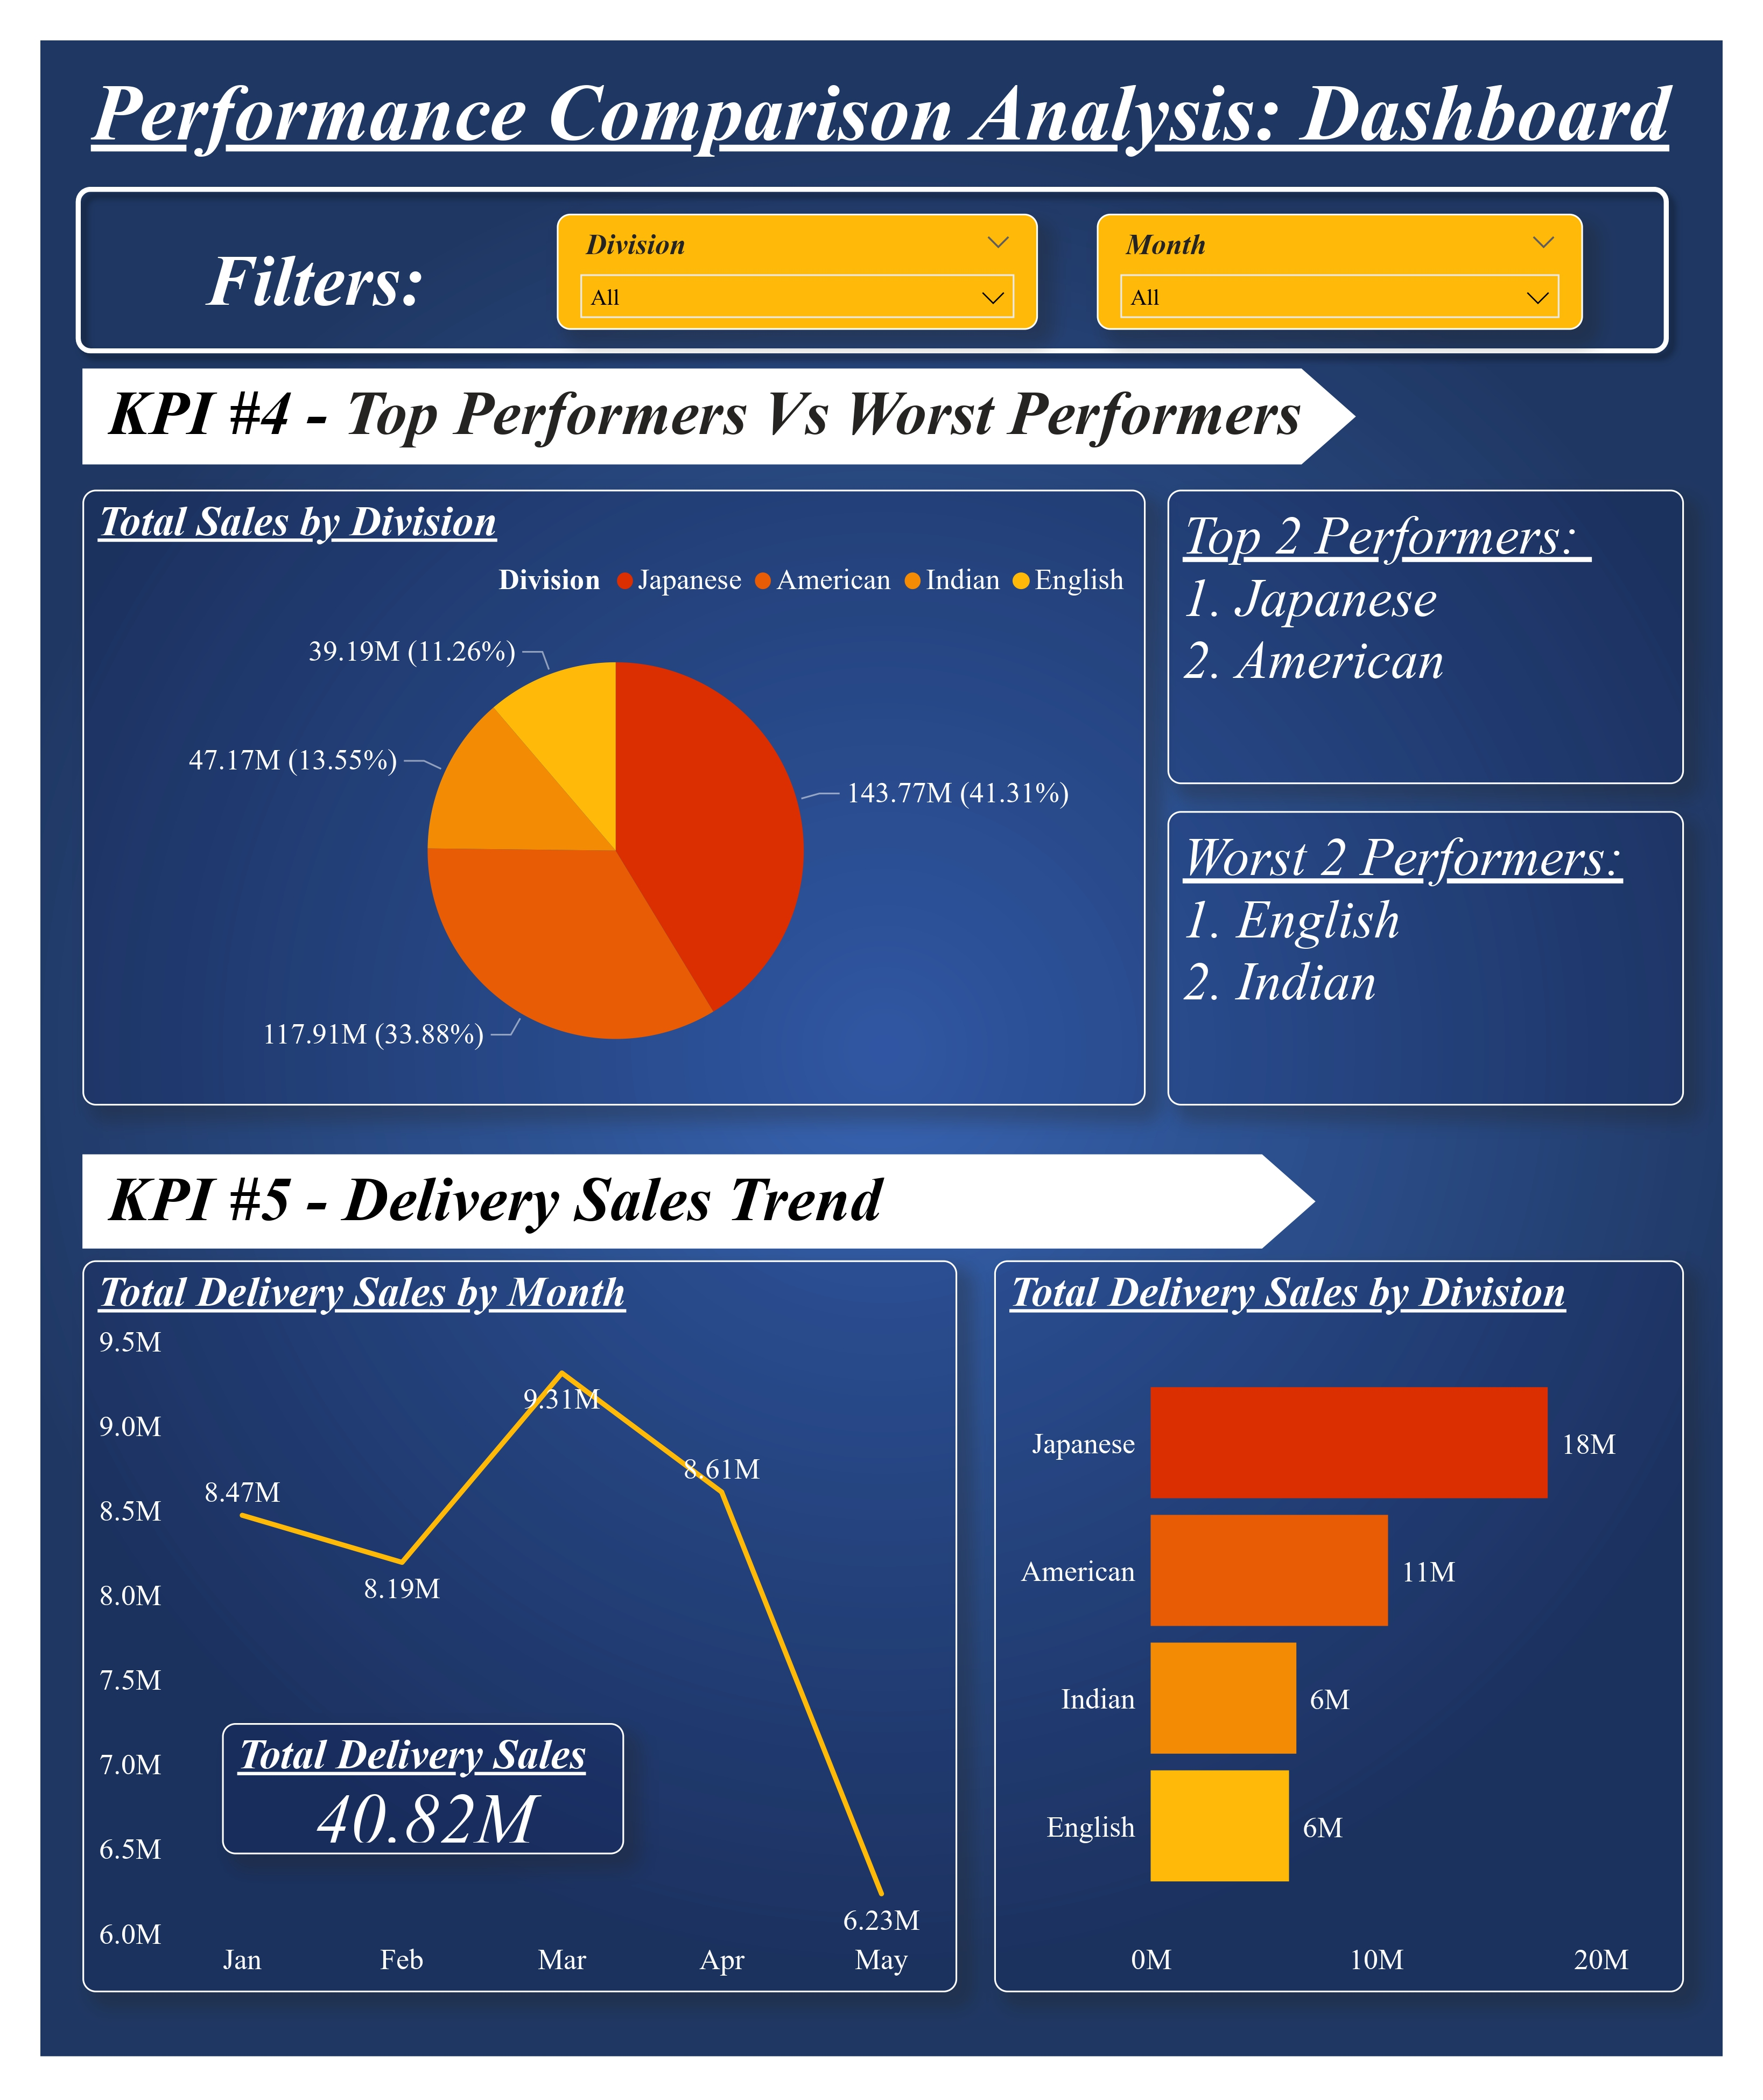

Layout of this report page (visuals, bound fields, positions):
{"tool":"powerbi","page":{"name":"Performance","canvas":[1000,1200],"ordinal":3},"visuals":[{"type":"textbox","box":[25,10,975,103],"z":0},{"type":"shape","box":[11.7,78.3,965,116.7],"z":1000},{"type":"slicer","fields":{"Values":["Divisions.Division"]},"box":[306.7,103.3,286.7,68.3],"z":2000},{"type":"slicer","fields":{"Values":["Date_Table.Month_Name"]},"box":[628.3,103.3,288.3,68.3],"z":3000},{"type":"textbox","box":[93.3,113.3,170,73.3],"z":4000},{"type":"pieChart","title":"Total Sales by Division","fields":{"Category":["Divisions.Division"],"Y":["Calculated_Measures.Total_Sales"]},"box":[25,266.7,631.7,366.7],"z":5000},{"type":"lineChart","title":"Total Delivery Sales by Month","fields":{"Y":["Calculated_Measures.Total_Delivery_Sales"],"Category":["Date_Table.Month_Name"]},"box":[25,725,520,435],"z":6000},{"type":"clusteredBarChart","title":"Total Delivery Sales by Division","fields":{"Y":["Calculated_Measures.Total_Delivery_Sales"],"Category":["Divisions.Division"]},"box":[566.7,725,410,435],"z":7000},{"type":"textbox","box":[670,266.7,306.7,175],"z":8000},{"type":"textbox","box":[670,458.3,306.7,175],"z":9000},{"type":"shape","box":[25,195,756.7,56.7],"z":10000},{"type":"shape","box":[25,661.7,733.3,56.7],"z":11000},{"type":"card","title":"Total Delivery Sales","fields":{"Values":["Calculated_Measures.Total_Delivery_Sales"]},"box":[108.3,1000,238.3,78.3],"z":12000},{"type":"textbox","box":[35,661.7,676.7,71.7],"z":13000},{"type":"textbox","box":[35,195,735,71.7],"z":14000}]}

Visuals, with their boxes in screenshot pixels (x1, y1, x2, y2):
textbox: x1=82, y1=57, x2=1723, y2=230
shape: x1=60, y1=172, x2=1683, y2=368
slicer - Divisions.Division: x1=556, y1=214, x2=1038, y2=329
slicer - Date_Table.Month_Name: x1=1097, y1=214, x2=1582, y2=329
textbox: x1=198, y1=231, x2=483, y2=354
"Total Sales by Division" pieChart: x1=82, y1=489, x2=1145, y2=1106
"Total Delivery Sales by Month" lineChart: x1=82, y1=1261, x2=957, y2=1992
"Total Delivery Sales by Division" clusteredBarChart: x1=994, y1=1261, x2=1683, y2=1992
textbox: x1=1168, y1=489, x2=1683, y2=783
textbox: x1=1168, y1=811, x2=1683, y2=1106
shape: x1=82, y1=368, x2=1355, y2=464
shape: x1=82, y1=1154, x2=1316, y2=1249
"Total Delivery Sales" card: x1=222, y1=1723, x2=623, y2=1855
textbox: x1=99, y1=1154, x2=1238, y2=1275
textbox: x1=99, y1=368, x2=1336, y2=489
